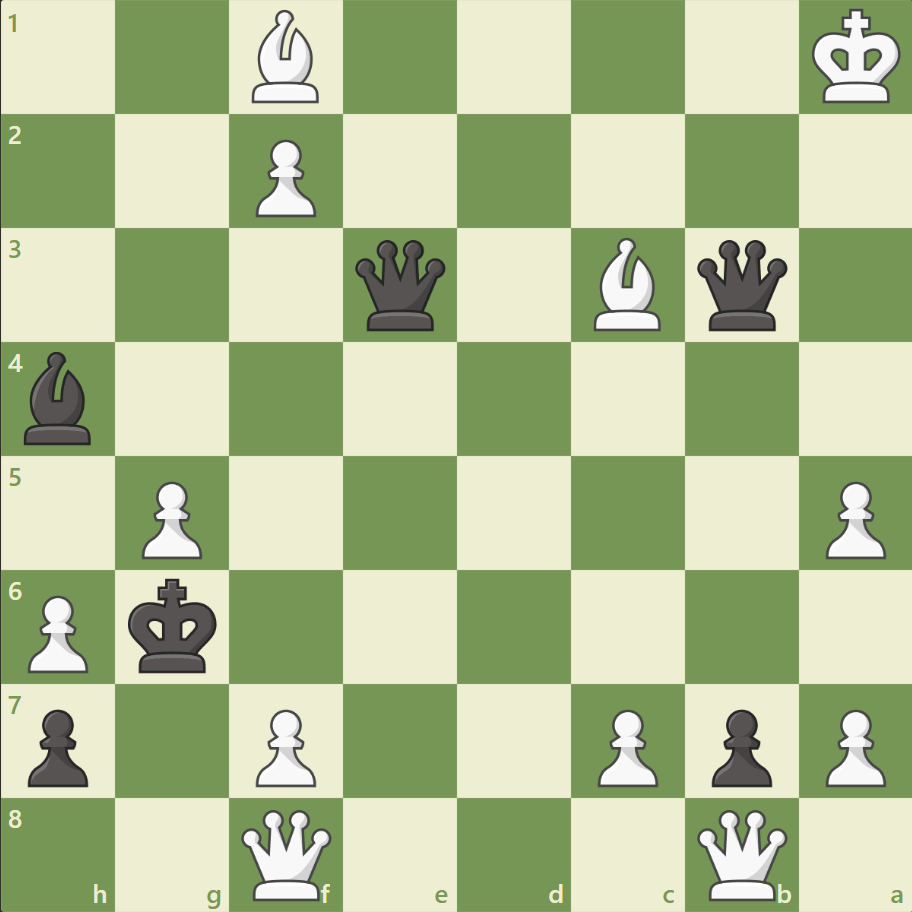B: (585, 233, 669, 336), (244, 6, 328, 109)
K: (806, 4, 906, 112)
P: (247, 700, 322, 791), (20, 586, 95, 677), (133, 473, 208, 564), (247, 132, 322, 223), (815, 700, 889, 791), (588, 700, 662, 791), (815, 473, 889, 564)
Q: (691, 804, 790, 903), (237, 804, 336, 903)
b: (17, 347, 101, 449)
k: (124, 571, 224, 679)
p: (701, 700, 776, 791), (20, 700, 95, 791)
q: (691, 236, 790, 335), (351, 236, 450, 335)
